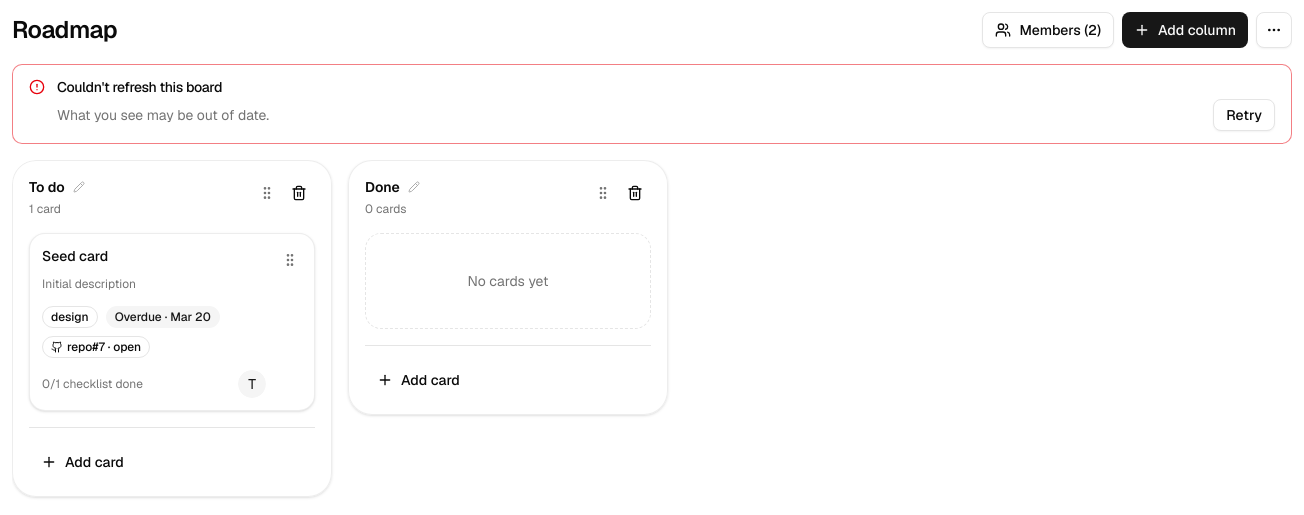
BoardView › keeps showing the board and offers a retry when a refresh fails
Expected: the text "Couldn't refresh this board" is shown, [57,78,222,96]
Expected: the text "To do" is shown, [29,177,65,197]
Click the button "Retry". click: (1244, 115)
box: [1213,99,1275,131]
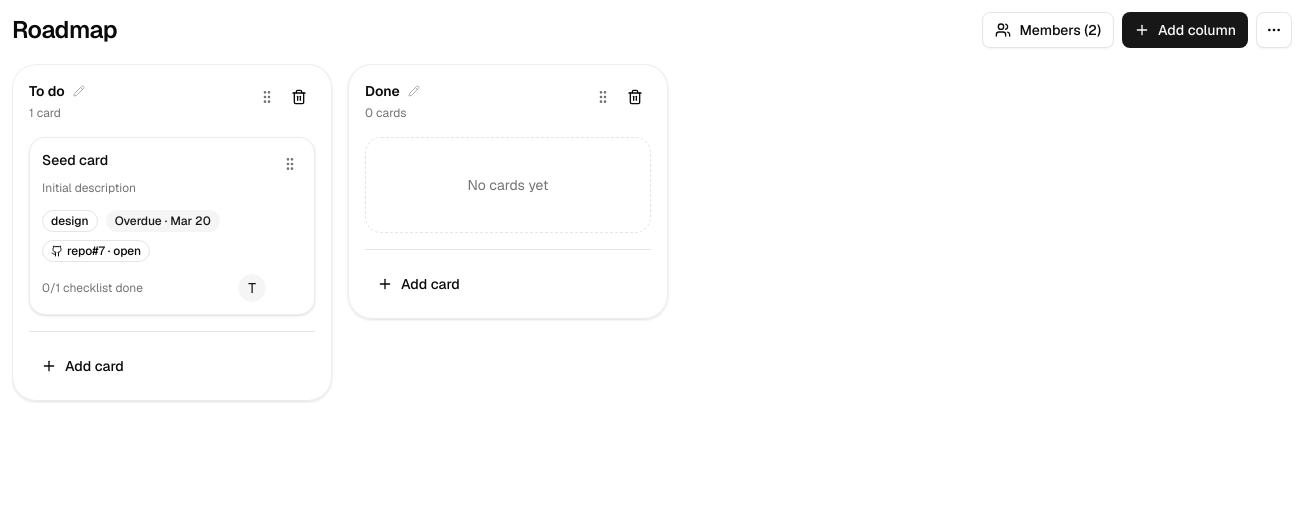
Expected: the text "To do" is shown, [29,81,65,101]
Now the message "Couldn't refresh this board What you see may be out of date. Retry" is gone
